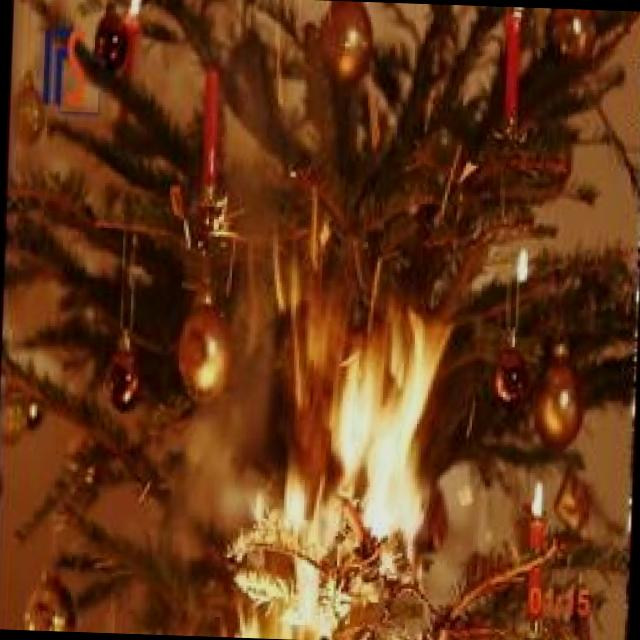fire: (266, 248, 446, 556)
